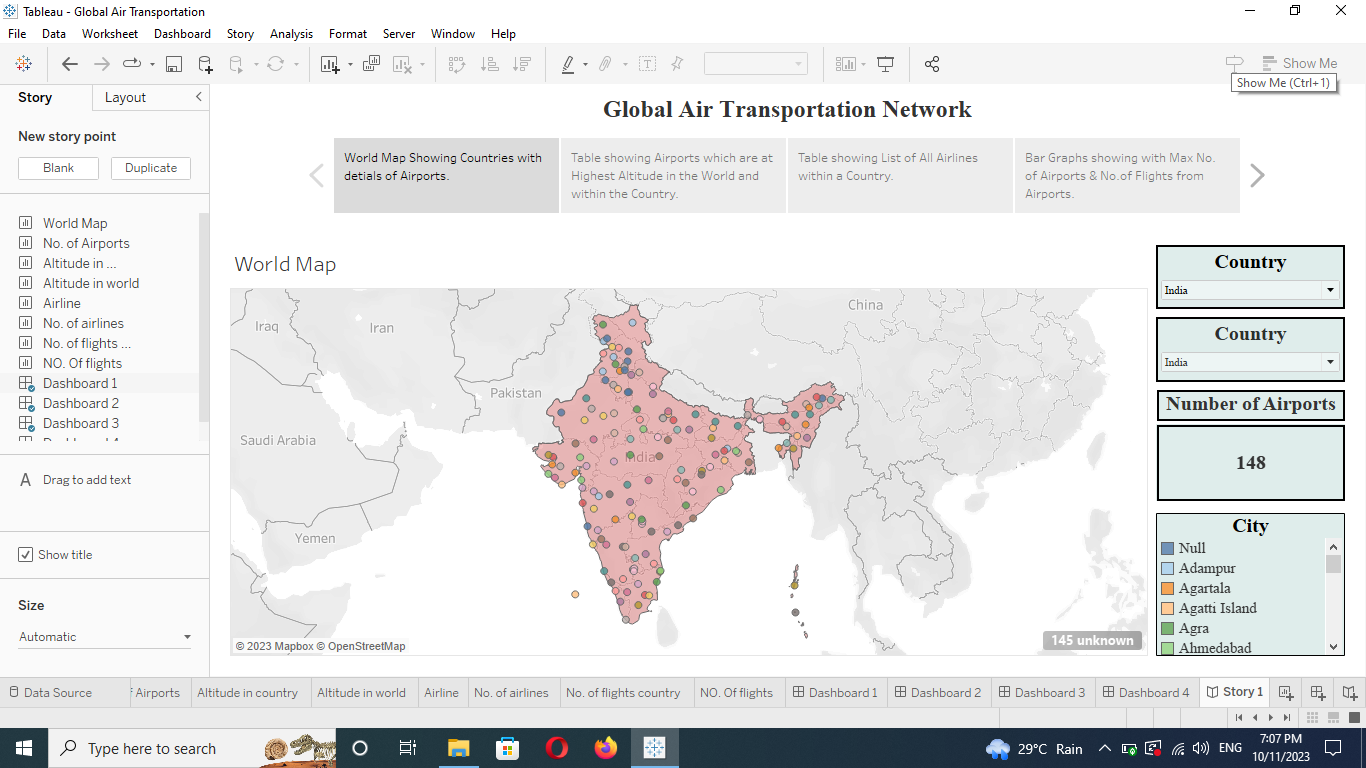

This screenshot's page, from the dashboard's own definition file:
{"tool":"tableau","page":{"name":"Dashboard 1","canvas":[1000,1000],"units":"permille","ordinal":0},"visuals":[{"type":"worksheet","title":"World Map","mark":"Multipolygon","rows":["Latitude"],"cols":["Longitude","Longitude"],"box":[6.9,13.5,815.6,973]},{"type":"filter","title":"World Map","param":"[federated.0mnjfow1o9cxgx1b9vua4074vz4p].[none:Country (airports.csv):nk]","box":[822.5,13.5,170.6,121.6]},{"type":"filter","title":"No. of Airports","param":"[federated.0mnjfow1o9cxgx1b9vua4074vz4p].[none:Country (airports.csv):nk]","box":[822.5,135.1,170.6,123.3]},{"type":"worksheet","title":"No. of Airports","mark":"Automatic","box":[822.5,258.4,170.6,207.8]},{"type":"legend","title":"World Map","param":"[federated.0mnjfow1o9cxgx1b9vua4074vz4p].[none:City:nk]","box":[822.5,466.2,170.6,520.3]}]}

Visuals, with their boxes on the dashboard's canvas, which has no fixed pixel size, in thousandths of its width and height (x1, y1, x2, y2). These are canvas units, not pixel positions in the 1366x768 screenshot, which may show the page scaled, cropped or inside an application window:
"World Map" worksheet (Multipolygon marks): box(7, 14, 822, 986)
"World Map" filter: box(822, 14, 993, 135)
"No. of Airports" filter: box(822, 135, 993, 258)
"No. of Airports" worksheet: box(822, 258, 993, 466)
"World Map" legend: box(822, 466, 993, 986)
